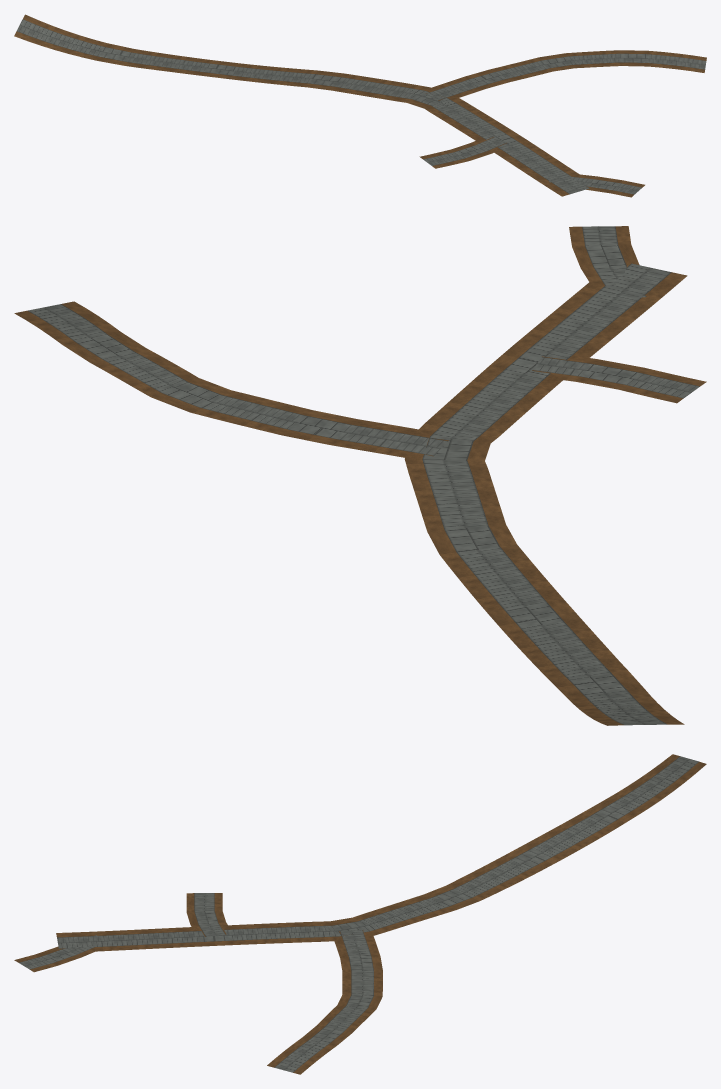
File: road_network_v4.obj
3 renders of one model, top to bottom at view 1: azimuth 30°, elevation 25°; view 2: azimuth 150°, elevation 25°; view 3: azimuth 270°, elevation 25°, orthographic. The views are drawn at different scales.
Parts seen in each view (by area): view 1: StoryWorld_RoadNetwork_v4; view 2: StoryWorld_RoadNetwork_v4; view 3: StoryWorld_RoadNetwork_v4.
Boxes of the visible parts, x1=… form: StoryWorld_RoadNetwork_v4: x1=14, y1=14, x2=706, y2=197; StoryWorld_RoadNetwork_v4: x1=14, y1=226, x2=706, y2=725; StoryWorld_RoadNetwork_v4: x1=14, y1=754, x2=706, y2=1074.
Bounding box in the file's own units: 60.52 × 3.63 × 61.41.
Materials: 2 (2 with a texture image).
